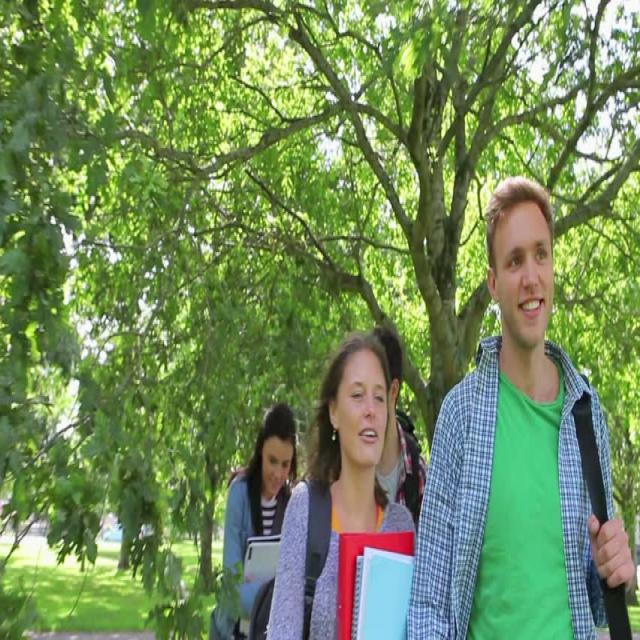body: (393, 171, 639, 638), (308, 328, 420, 640), (209, 398, 299, 640), (370, 324, 428, 537)
